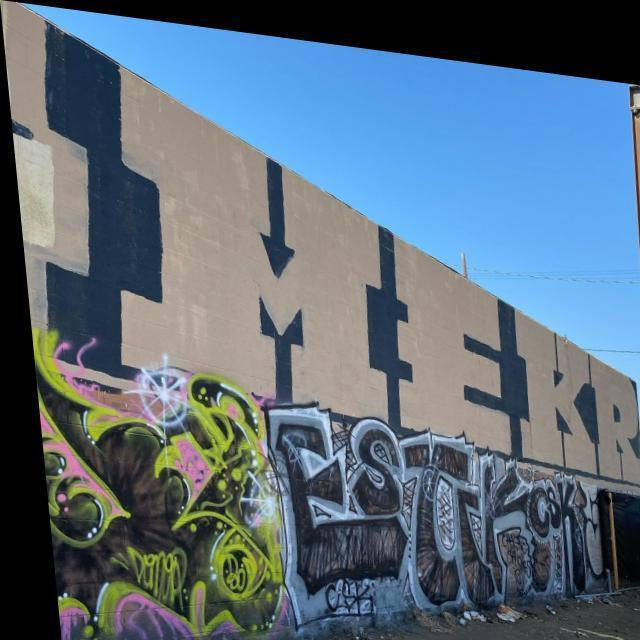nonspitting: (114, 64, 640, 484), (32, 328, 288, 640), (270, 402, 613, 622), (326, 580, 374, 615)
